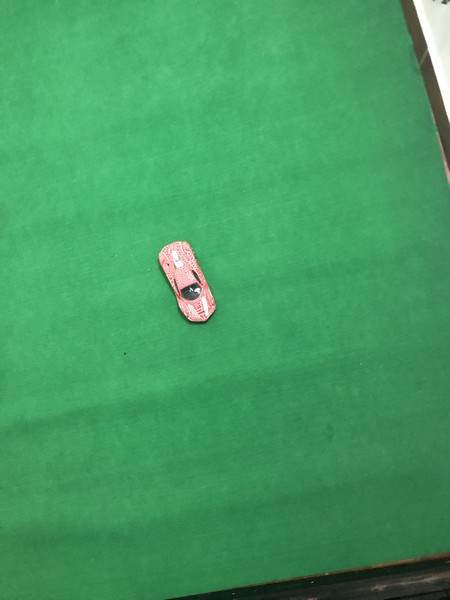RC: (157, 240, 218, 326)
